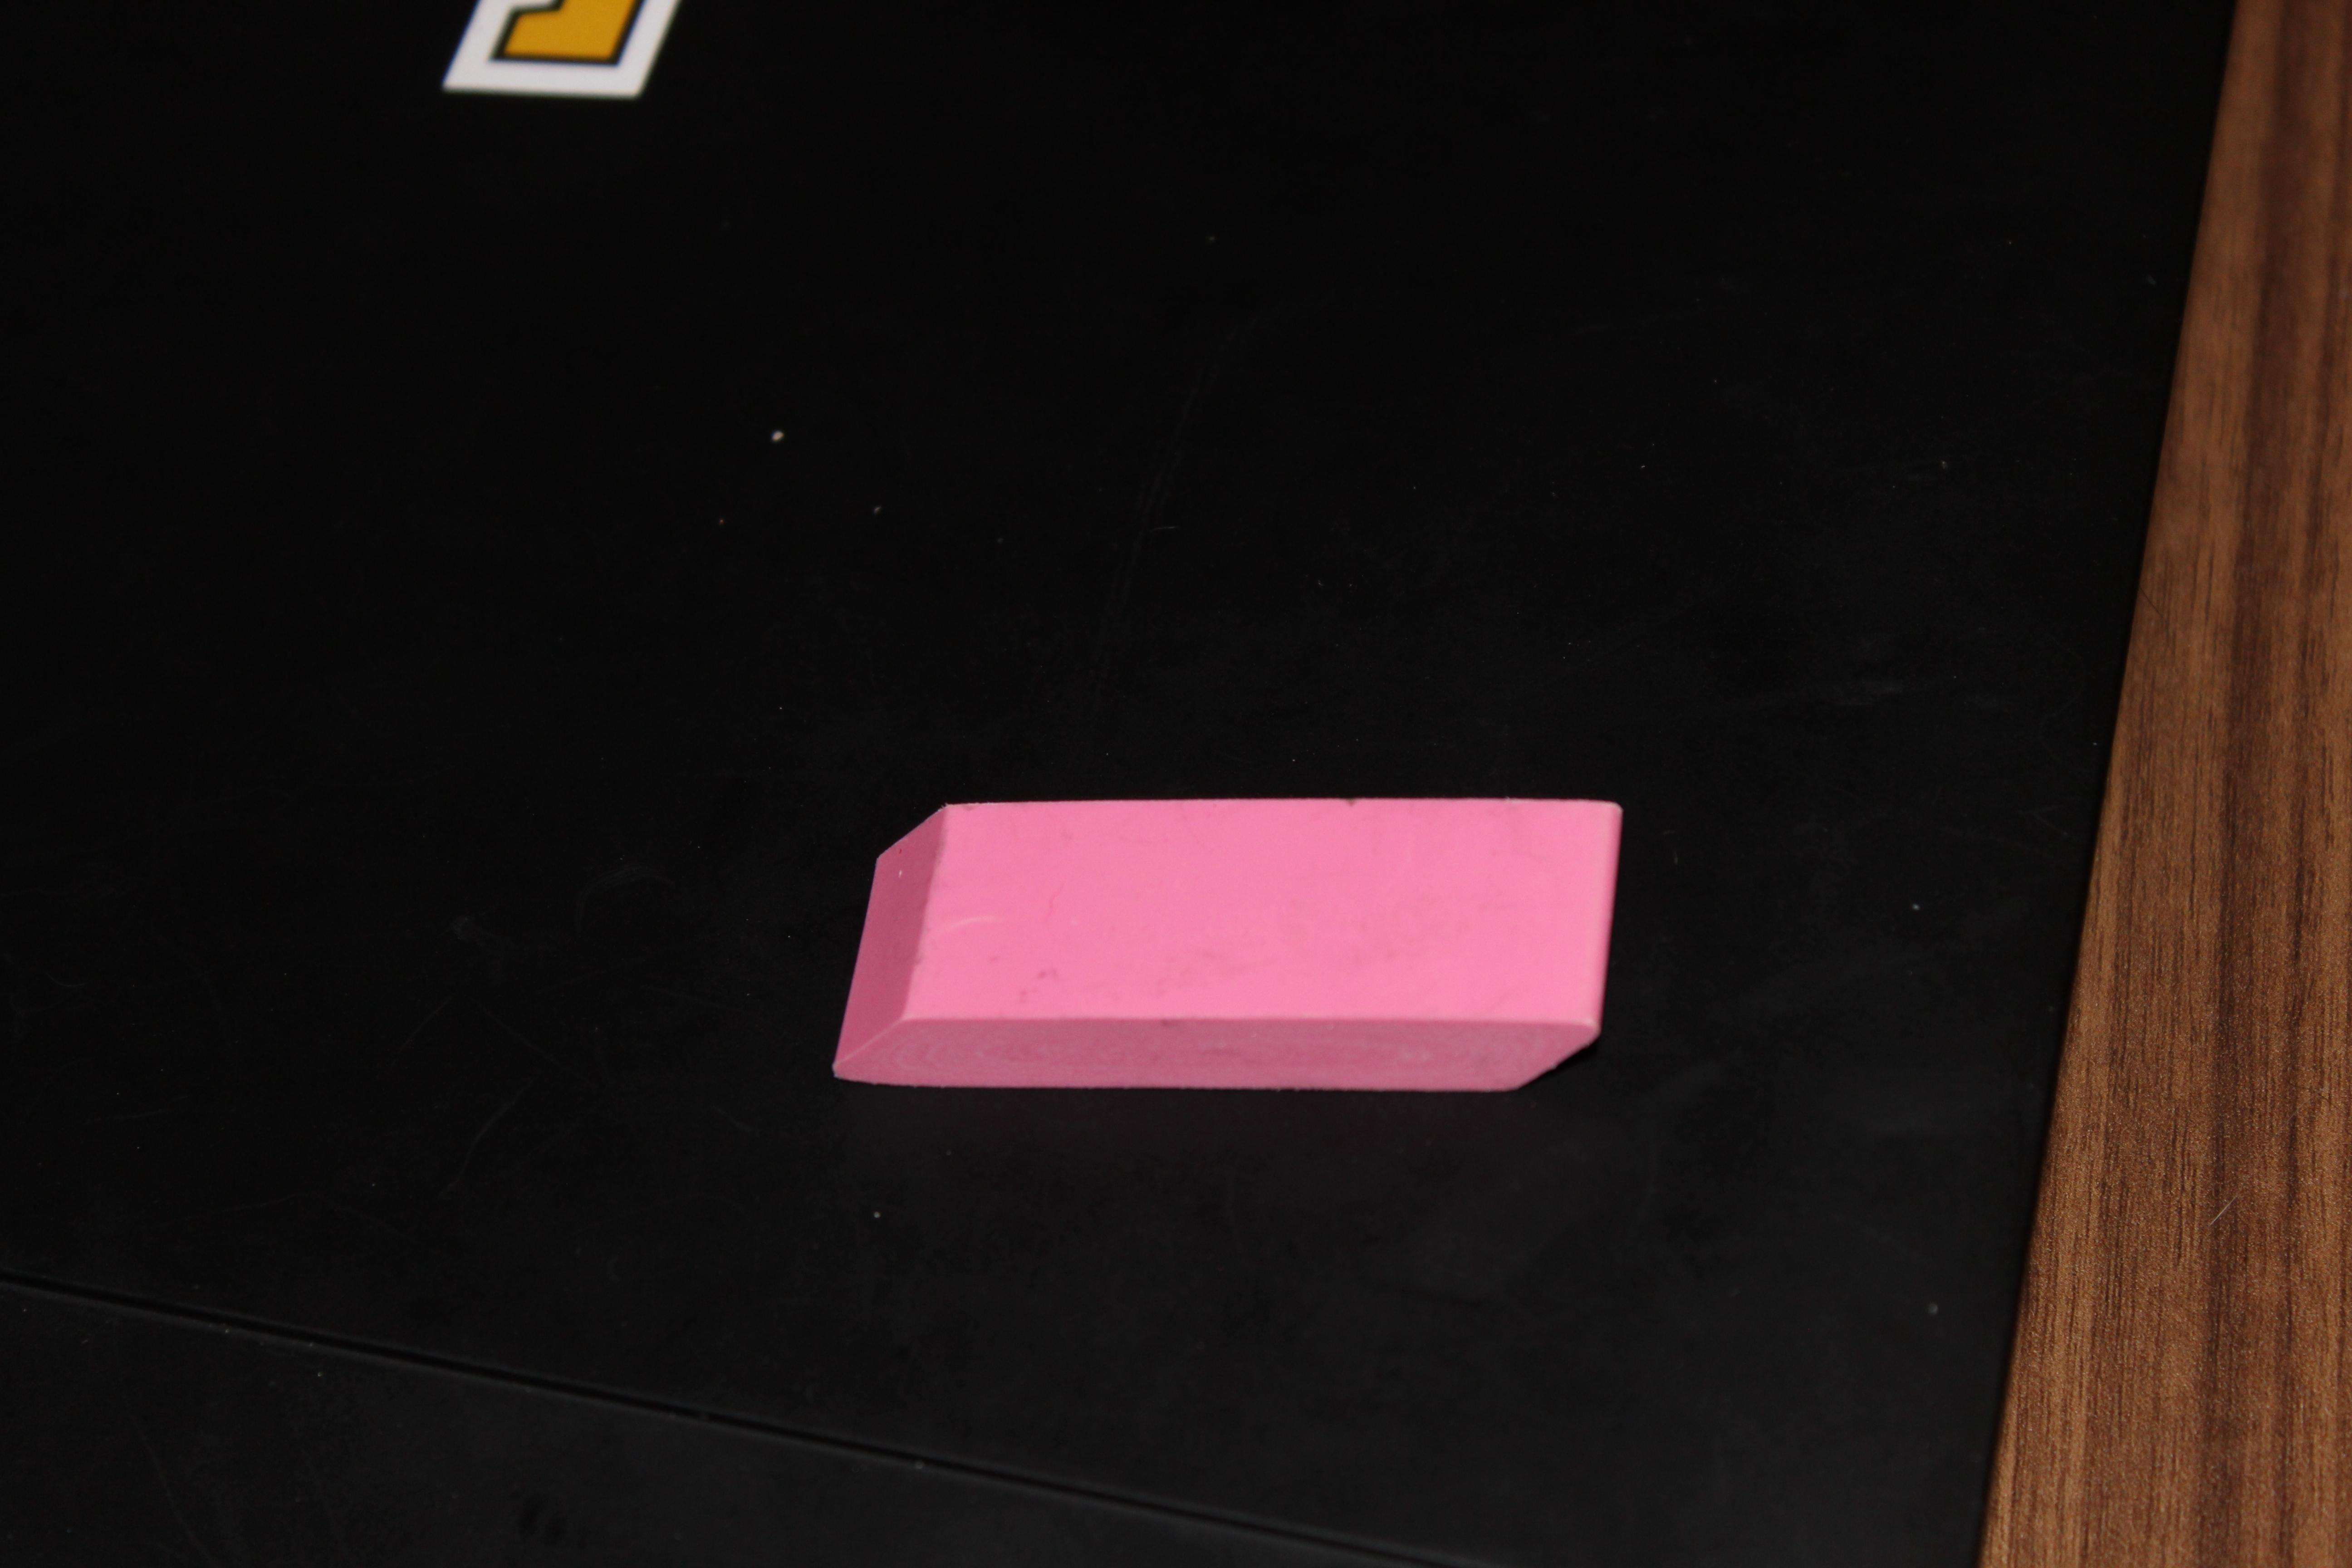pinkEraser: (817, 724, 1659, 1157)
